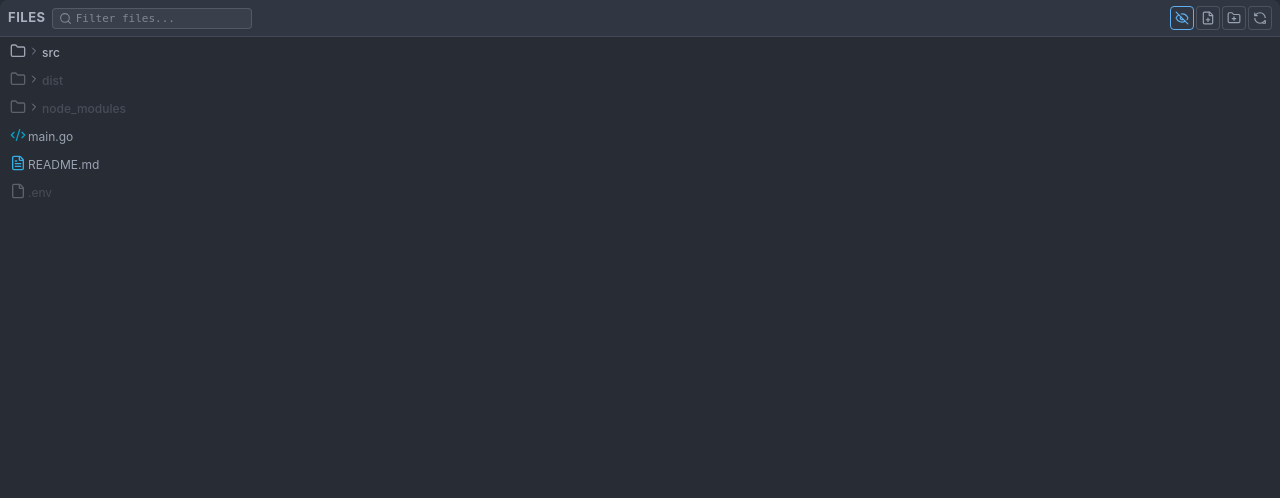
Test case: FileTree background context menu › background context menu appears when right-clicking empty space
Right-click the element with class "file-list": {"x": 84, "y": 108} left=10, top=42, right=126, bottom=200
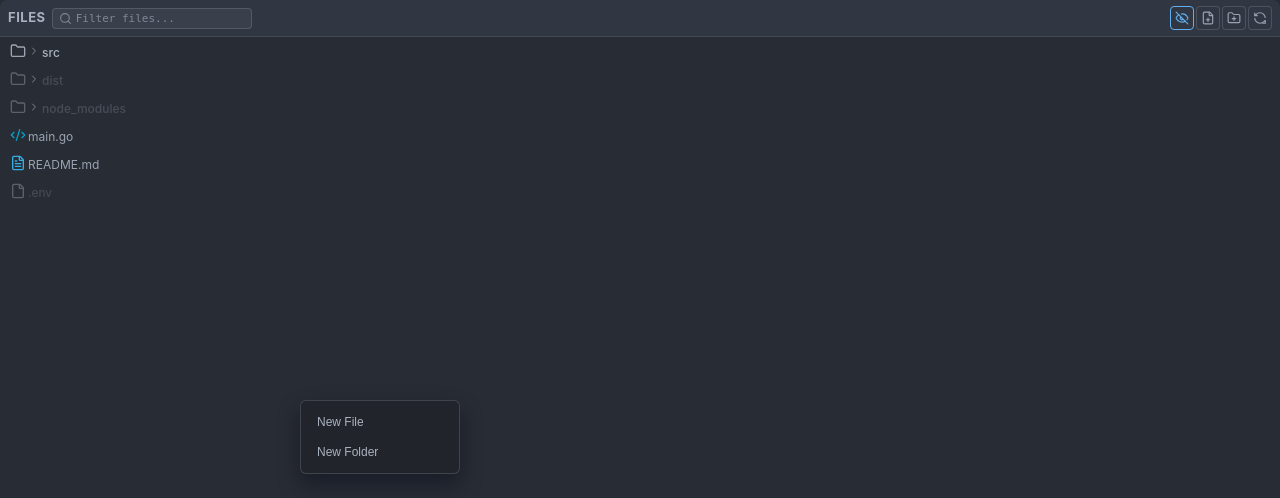
Check: the element with class "context-menu" is shown, box left=300, top=400, right=460, bottom=474
